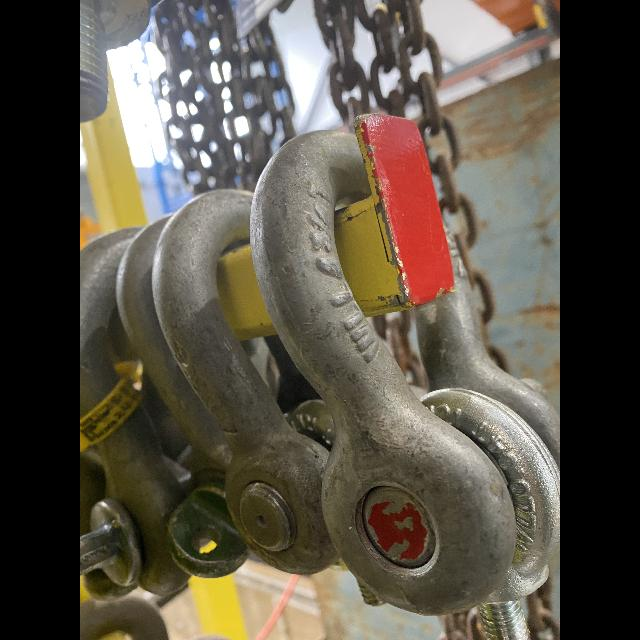Ferrous Metal: (333, 114, 451, 315), (218, 243, 276, 339)
Galvanized Steel: (252, 130, 560, 614), (80, 188, 335, 590)
